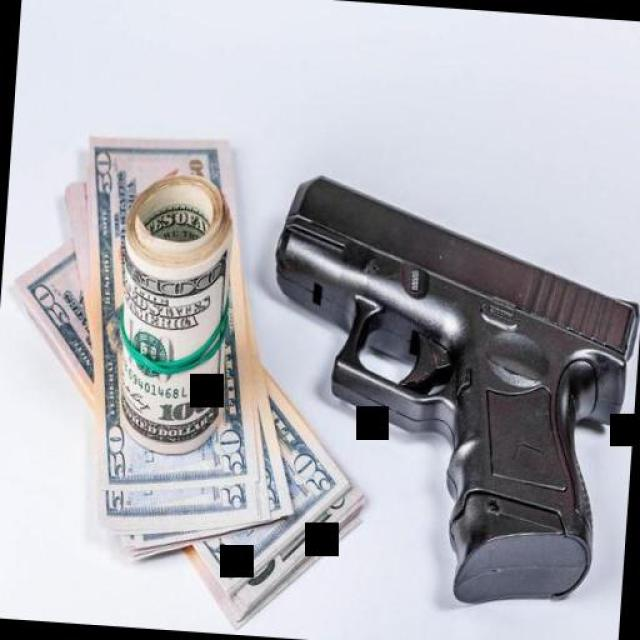gun: (247, 164, 640, 625)
